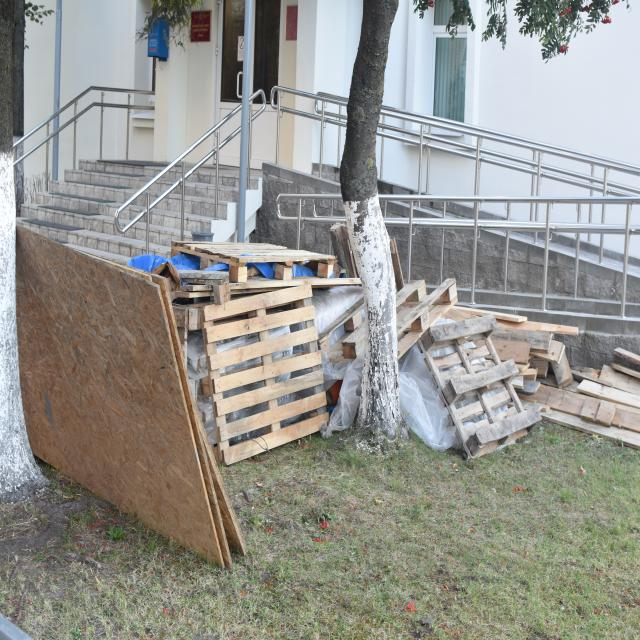entulho: (12, 230, 236, 558), (197, 270, 336, 471), (306, 275, 432, 416), (127, 227, 340, 298), (328, 218, 407, 294)
restos de madeira: (424, 274, 640, 455)
